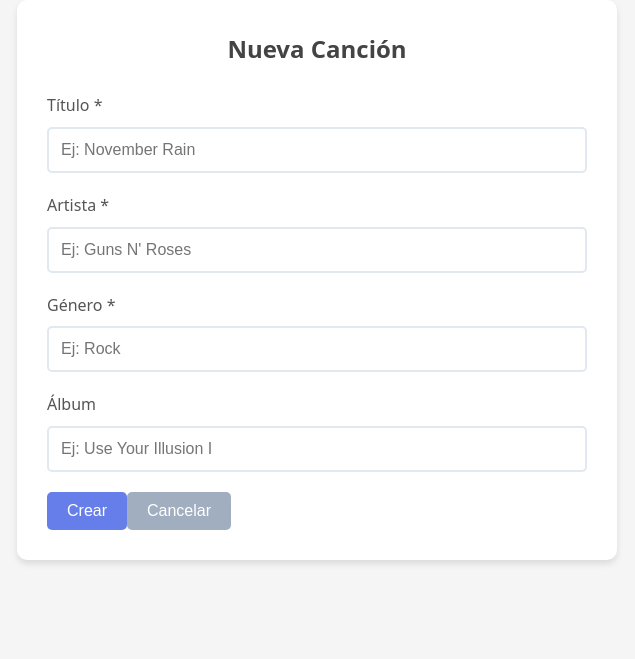
Test: SongForm › muestra un error general cuando no hay detalle por campo
Type "Bailando" into the field labelled "Título *" at {"x": 317, "y": 150}, box [47,127,587,173]
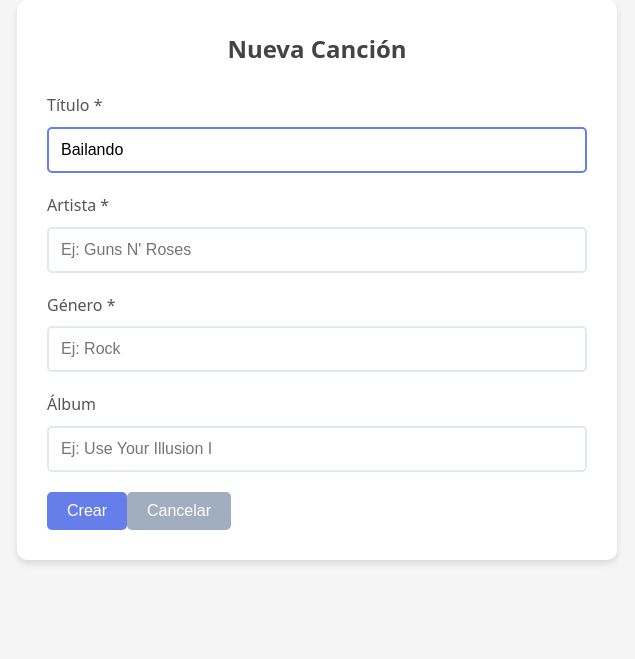
Type "Enrique" into the field labelled "Artista *" at {"x": 317, "y": 250}, box [47,227,587,273]
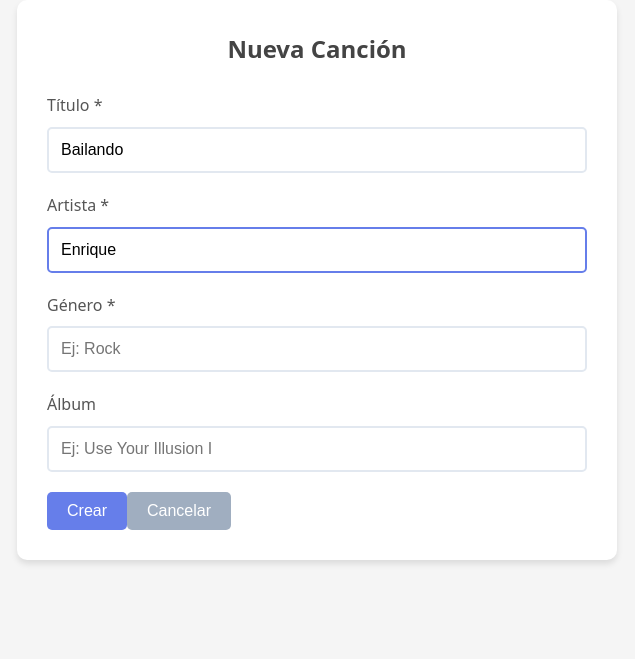
Type "Pop" into the field labelled "Género *" at {"x": 317, "y": 349}, box [47,326,587,372]
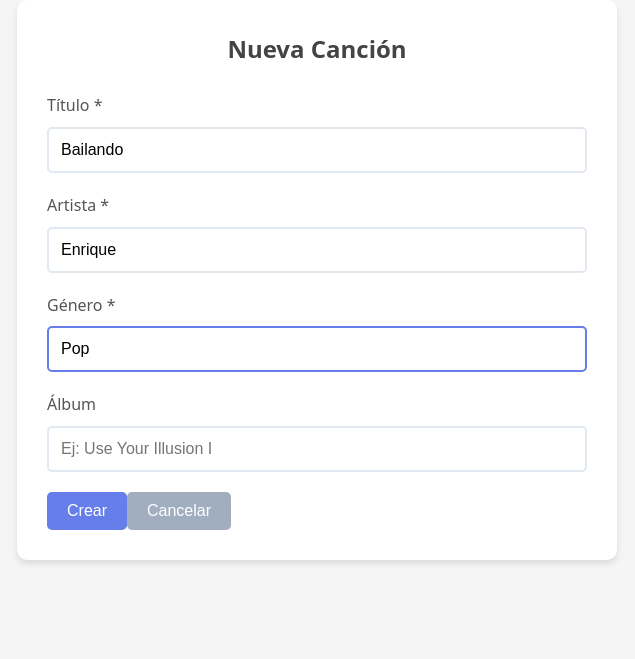
Click the button "Crear" at {"x": 87, "y": 511}, box [47,492,127,530]
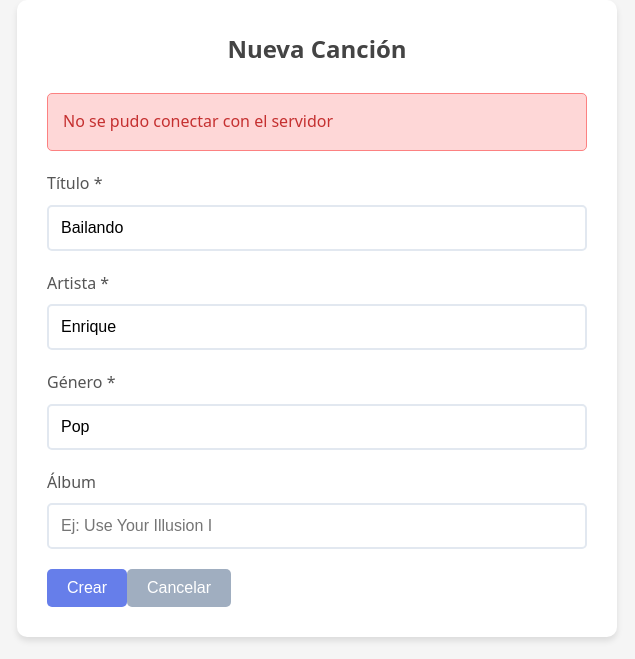
Check: the message shows "No se pudo conectar", box [63,110,333,132]
